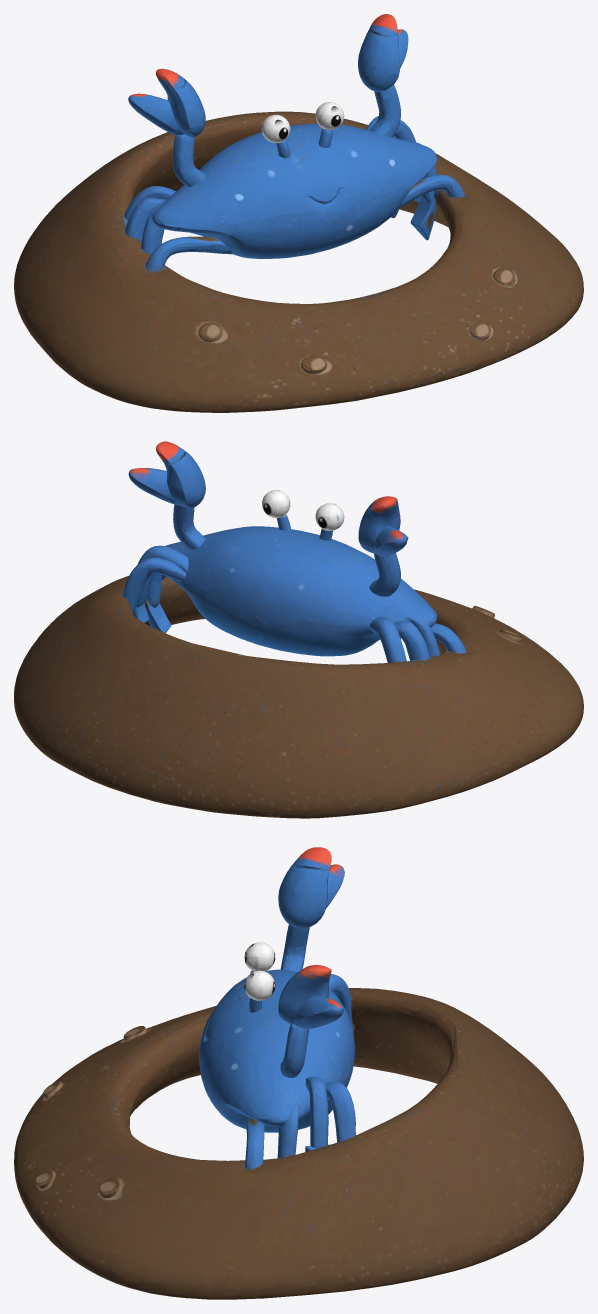
Rendered from cangrejo2.glb.
3 renders of one model, top to bottom at view 1: azimuth 30°, elevation 25°; view 2: azimuth 150°, elevation 25°; view 3: azimuth 270°, elevation 25°, orthographic. The views are drawn at different scales.
Size of the model in its own units: 1.9 by 0.9173 by 1.77.
1 material, 1 textured.
